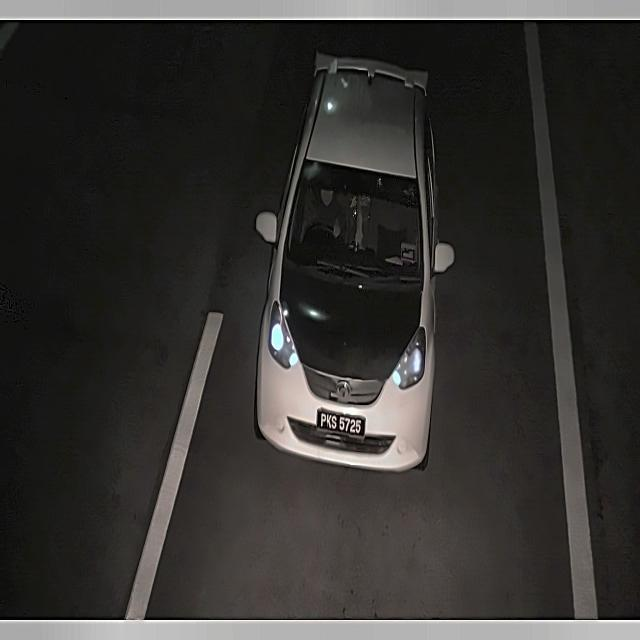car: (312, 404, 372, 444)
